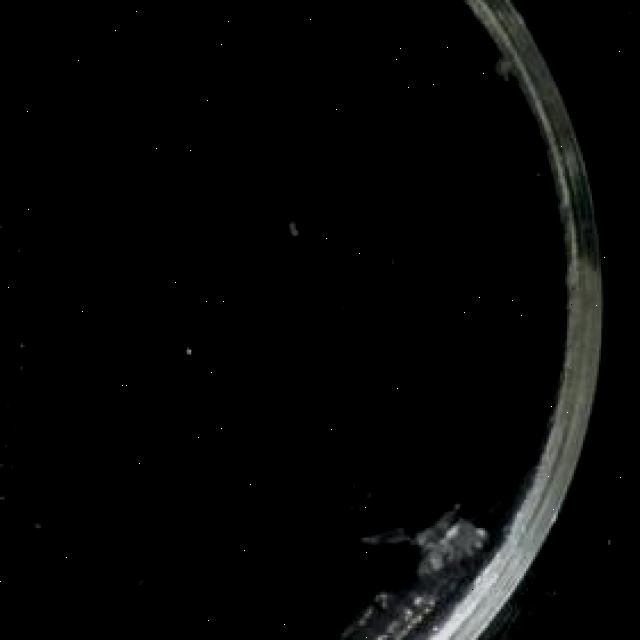Microplastic: (321, 499, 492, 640)
